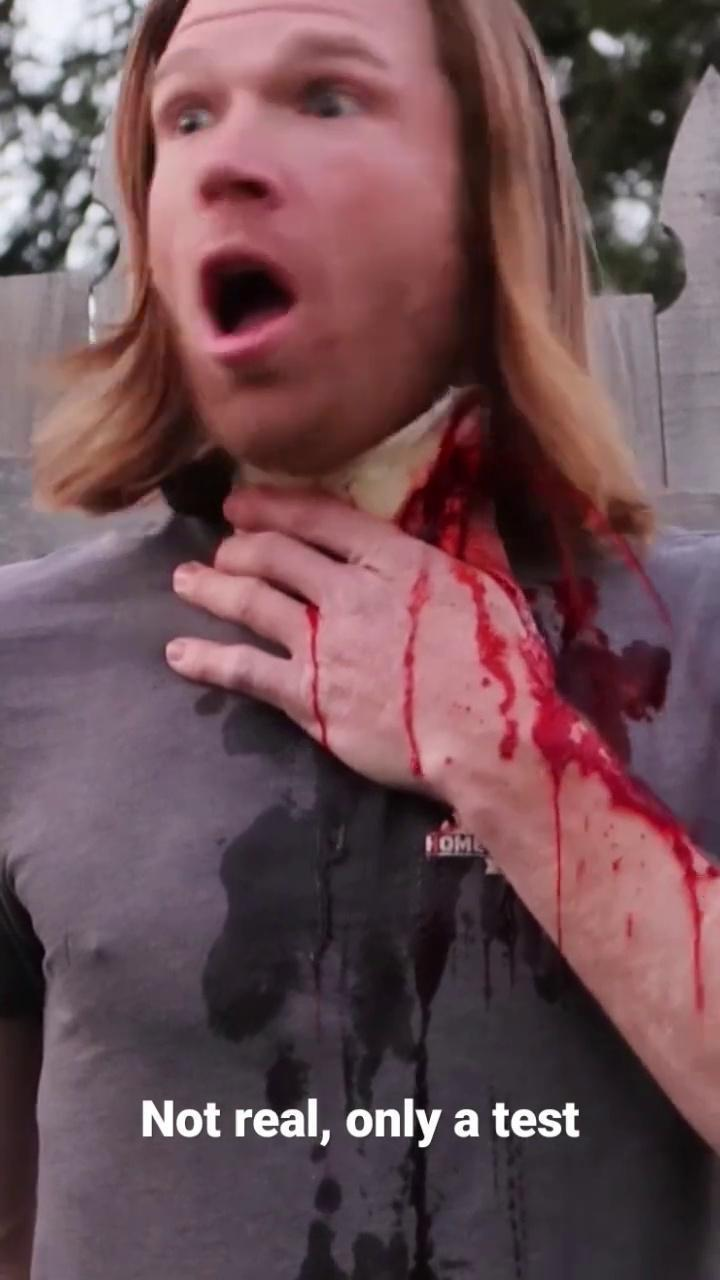Fire: (505, 602, 719, 1130), (522, 574, 669, 762), (398, 392, 510, 574), (467, 576, 527, 718), (403, 569, 429, 780), (306, 603, 332, 754)
